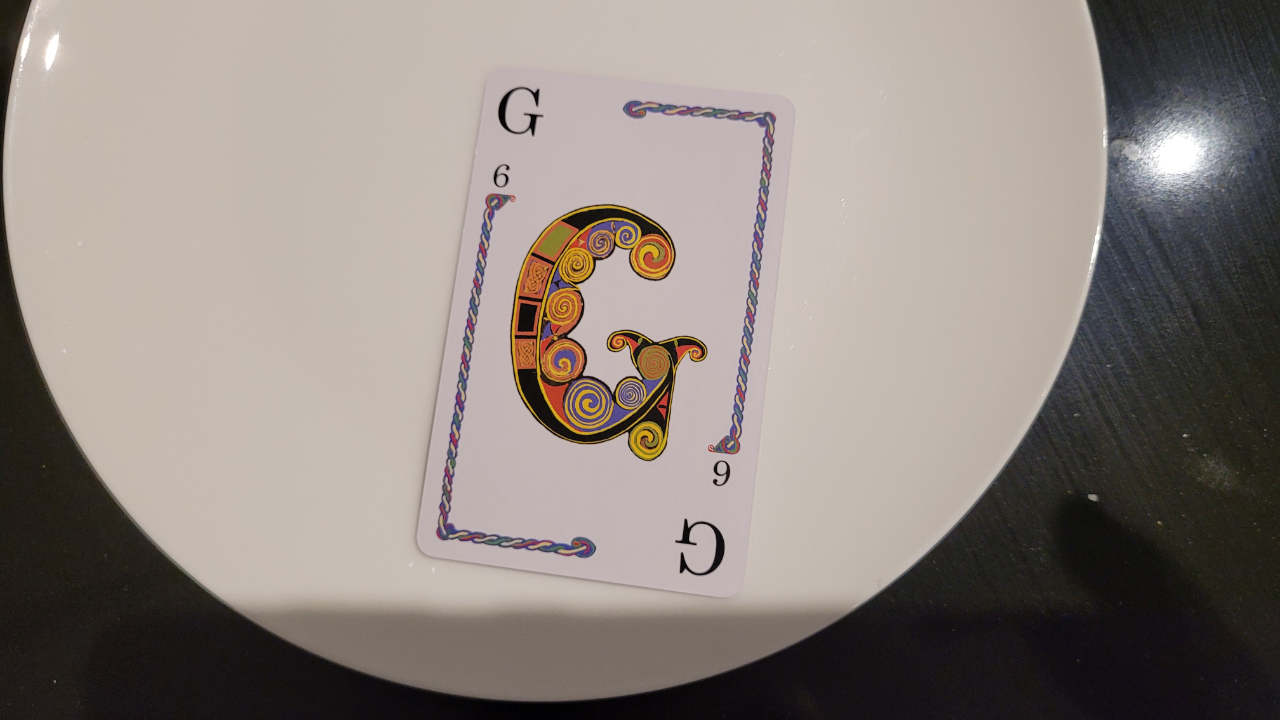quiddler_card: (398, 51, 820, 615)
